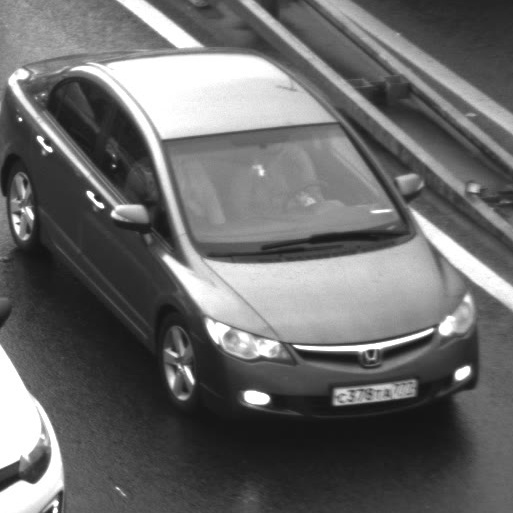plate: (322, 369, 423, 412)
